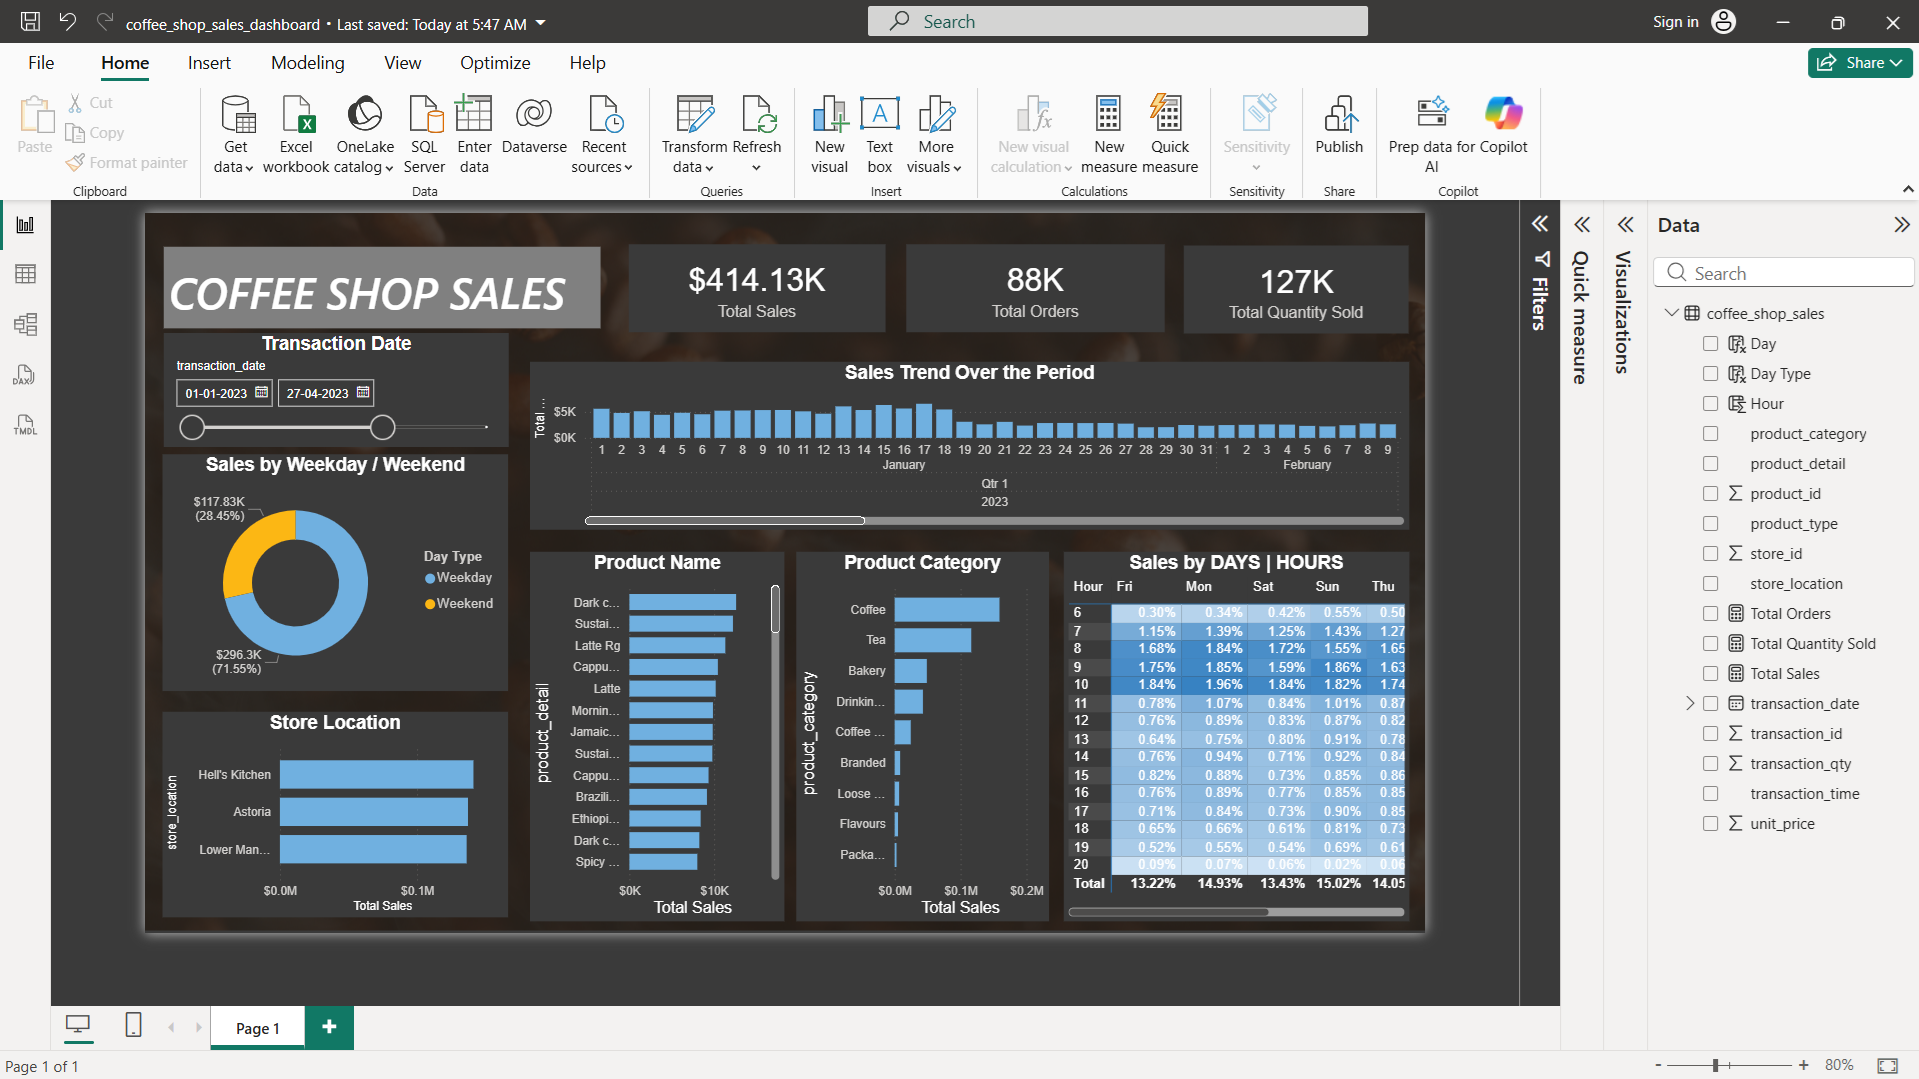

Layout of this report page (visuals, bound fields, positions):
{"tool":"powerbi","page":{"name":"Page 1","canvas":[1280,720],"ordinal":0},"visuals":[{"type":"clusteredColumnChart","title":"Sales Trend Over the Period","fields":{"Y":["coffee_shop_sales.Total Sales"],"Category":["coffee_shop_sales.transaction_date.Variation.Date Hierarchy.Year","coffee_shop_sales.transaction_date.Variation.Date Hierarchy.Quarter","coffee_shop_sales.transaction_date.Variation.Date Hierarchy.Month","coffee_shop_sales.transaction_date.Variation.Date Hierarchy.Day"]},"box":[385.3,148.4,879.2,168.3],"z":0},{"type":"card","fields":{"Values":["coffee_shop_sales.Total Sales"]},"box":[483.3,31.7,256.7,88.3],"z":1000},{"type":"card","fields":{"Values":["coffee_shop_sales.Total Orders"]},"box":[761.7,31.7,258.3,88.3],"z":2000},{"type":"card","fields":{"Values":["coffee_shop_sales.Total Quantity Sold"]},"box":[1039.1,32.4,225.1,88.2],"z":3000},{"type":"donutChart","title":"Sales by Weekday / Weekend","fields":{"Category":["coffee_shop_sales.Day Type"],"Y":["coffee_shop_sales.Total Sales"]},"box":[17.7,241.4,345.5,237],"z":4000},{"type":"barChart","title":"Store Location","fields":{"Category":["coffee_shop_sales.store_location"],"Y":["coffee_shop_sales.Total Sales"]},"box":[17.7,498.3,345.5,206],"z":5000},{"type":"barChart","title":"Product Category","fields":{"Category":["coffee_shop_sales.product_category"],"Y":["coffee_shop_sales.Total Sales"]},"box":[651.1,338.8,252.5,369.8],"z":6000},{"type":"barChart","title":"Product Name","fields":{"Category":["coffee_shop_sales.product_detail"],"Y":["coffee_shop_sales.Total Sales"]},"box":[385.3,338.8,254.7,369.8],"z":7000},{"type":"pivotTable","title":"Sales by DAYS | HOURS","fields":{"Rows":["coffee_shop_sales.Hour"],"Columns":["coffee_shop_sales.Day"],"Values":["coffee_shop_sales.Total Sales"]},"box":[919,338.8,345.5,369.8],"z":8000},{"type":"slicer","title":"Transaction Date","fields":{"Values":["coffee_shop_sales.transaction_date"]},"box":[18.3,120,345,113.3],"z":9000},{"type":"textbox","box":[18.3,33.3,436.7,81.7],"z":10000}]}

Visuals, with their boxes on the page's 1280x720 design canvas (x1, y1, x2, y2). These are canvas units, not pixel positions in the 1919x1079 screenshot, which may show the page scaled, cropped or inside an application window:
"Sales Trend Over the Period" clusteredColumnChart: [left=385, top=148, right=1264, bottom=317]
card - coffee_shop_sales.Total Sales: [left=483, top=32, right=740, bottom=120]
card - coffee_shop_sales.Total Orders: [left=762, top=32, right=1020, bottom=120]
card - coffee_shop_sales.Total Quantity Sold: [left=1039, top=32, right=1264, bottom=121]
"Sales by Weekday / Weekend" donutChart: [left=18, top=241, right=363, bottom=478]
"Store Location" barChart: [left=18, top=498, right=363, bottom=704]
"Product Category" barChart: [left=651, top=339, right=904, bottom=709]
"Product Name" barChart: [left=385, top=339, right=640, bottom=709]
"Sales by DAYS | HOURS" pivotTable: [left=919, top=339, right=1264, bottom=709]
"Transaction Date" slicer: [left=18, top=120, right=363, bottom=233]
textbox: [left=18, top=33, right=455, bottom=115]
